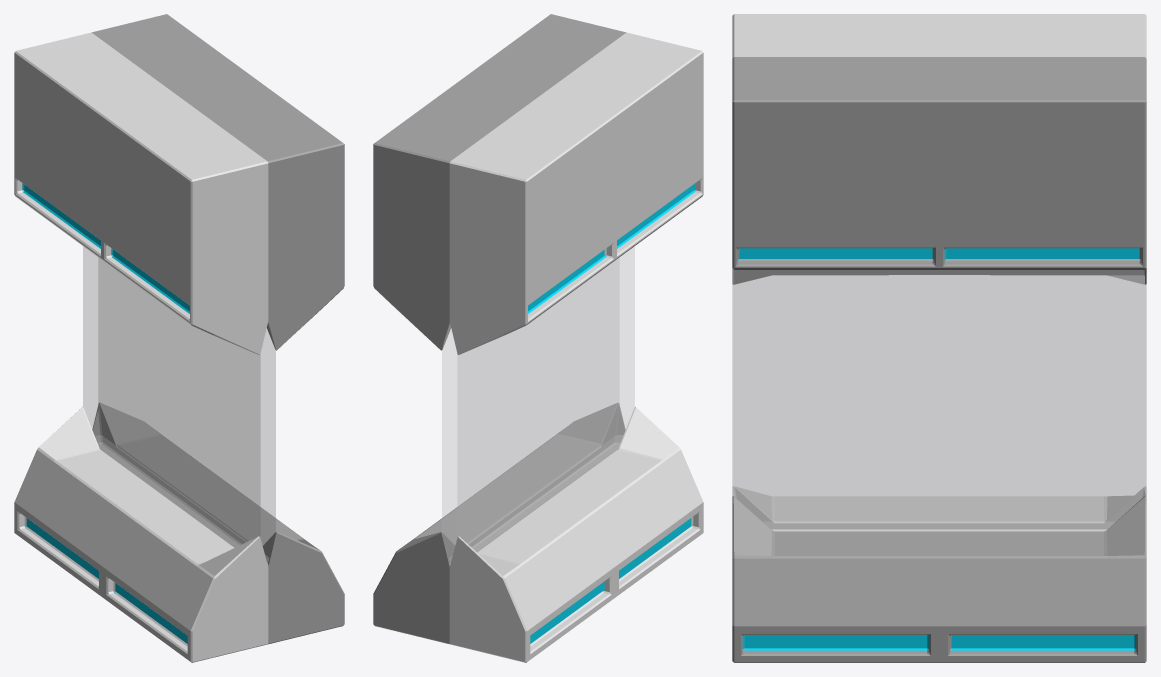
The model's file is Wall_Fenetre.fbx.
3 views of the same model, side by side, from view 1: azimuth 30°, elevation 25°; view 2: azimuth 150°, elevation 25°; view 3: azimuth 270°, elevation 25° (orthographic). The views are drawn at different scales.
Parts seen in each view (by area): view 1: Wall_Fenetre, Vitre; view 2: Wall_Fenetre, Vitre; view 3: Wall_Fenetre, Vitre.
Boxes of the visible parts, x1,y1,x2,y2 form: Wall_Fenetre: [14, 14, 344, 662]; Vitre: [83, 246, 275, 562]; Wall_Fenetre: [373, 14, 703, 662]; Vitre: [442, 246, 634, 562]; Wall_Fenetre: [732, 14, 1146, 662]; Vitre: [732, 275, 1146, 530].
Bounding box in the file's own units: 200 × 600 × 400.
